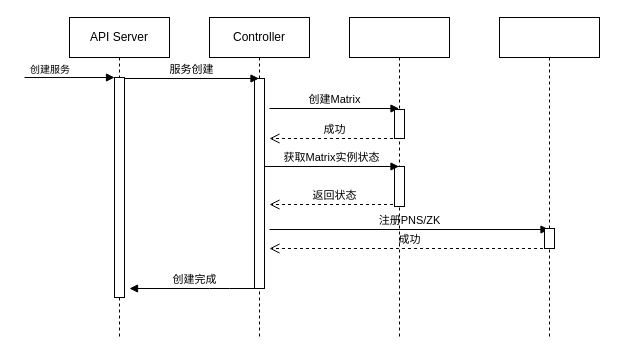
Some shapes in this 617 by 355 pixel diagram are drawn without their labels. The box of each missing label's shape, as (x1, y1, x2, y2) in pixels:
Matrix API: (348, 16, 450, 338)
PNS/ZK: (498, 16, 600, 338)
